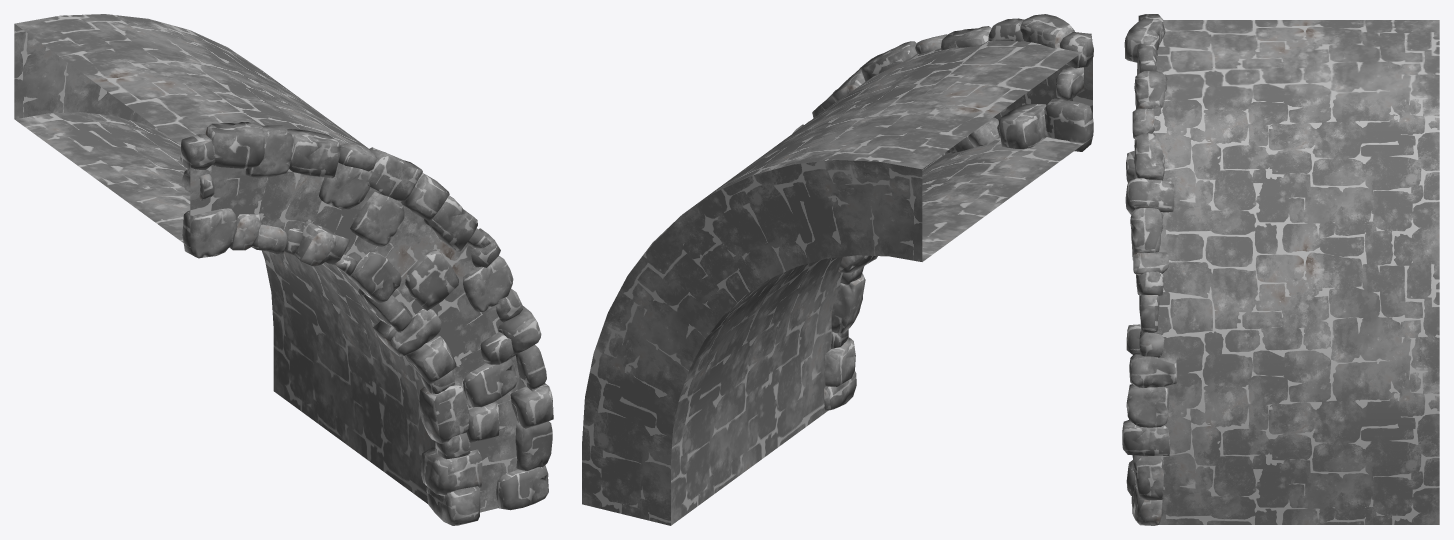
The model's file is Half_roof_SidePiece_Right.fbx.
The picture shows the model from 3 angles, left to right: view 1: azimuth 30°, elevation 25°; view 2: azimuth 150°, elevation 25°; view 3: azimuth 270°, elevation 25°; orthographic projection. The views are drawn at different scales.
Parts seen in each view (by area): view 1: Half_Roof_02.001, Rocks_06.001; view 2: Half_Roof_02.001, Rocks_06.001; view 3: Half_Roof_02.001, Rocks_06.001.
Part boxes in pixels (x1,y1,x2,y2): Half_Roof_02.001: [14, 14, 525, 512]; Rocks_06.001: [180, 122, 553, 525]; Half_Roof_02.001: [582, 40, 1092, 525]; Rocks_06.001: [792, 14, 1093, 410]; Half_Roof_02.001: [1144, 20, 1439, 524]; Rocks_06.001: [1122, 14, 1177, 525].
Size of the model in its own units: 5.91 by 6.99 by 5.37.
